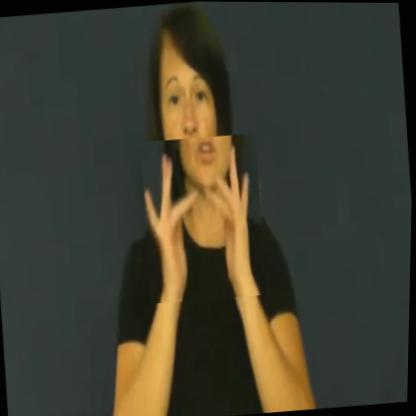Internet: (139, 132, 271, 305)
